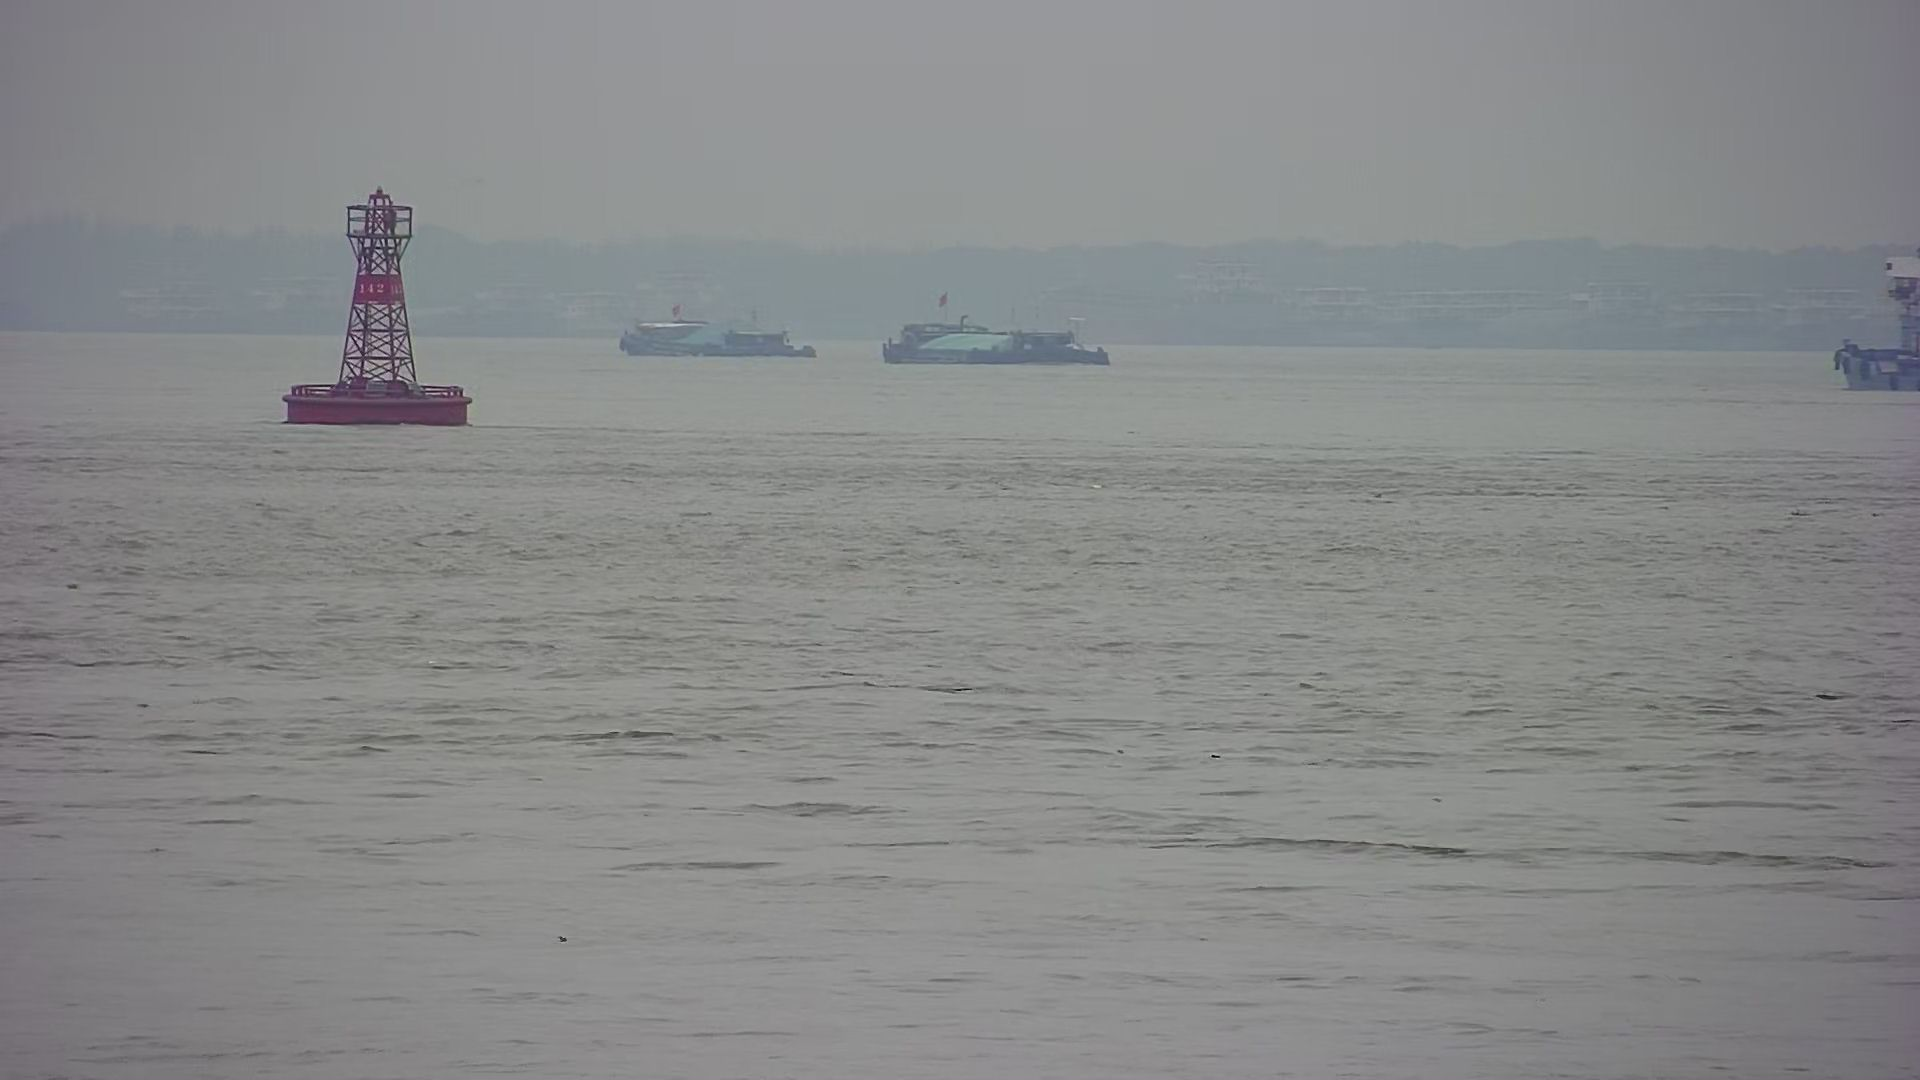platform: (282, 179, 477, 435)
ship: (877, 316, 1121, 371), (613, 310, 818, 363)
